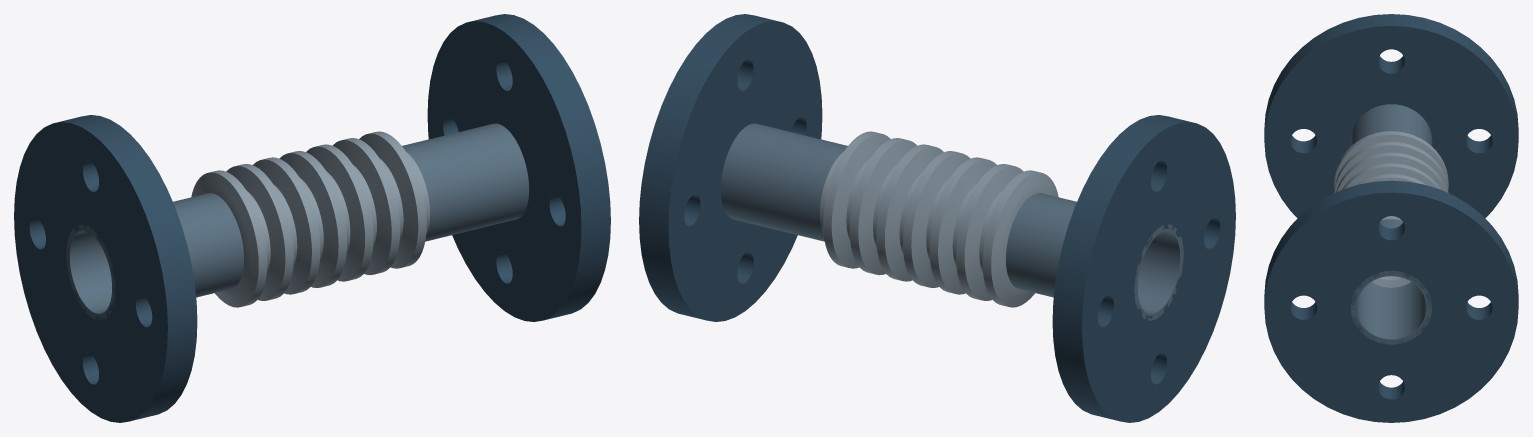
Rendered from flan-dn32-L220-D42_4-f.glb.
3 renders of one model, left to right at view 1: azimuth 30°, elevation 25°; view 2: azimuth 150°, elevation 25°; view 3: azimuth 270°, elevation 25°, orthographic. The views are drawn at different scales.
Visible parts, largest first — view 1: homut_flanec_1, homut_flanec_2, prokladka_silfon_1, patrubok_2, patrubok_1; view 2: homut_flanec_1, homut_flanec_2, prokladka_silfon_1, patrubok_2, patrubok_1; view 3: homut_flanec_2, homut_flanec_1, prokladka_silfon_1, patrubok_2, patrubok_1.
Boxes of the visible parts, left/top/right/bottom form: homut_flanec_1: left=14, top=115, right=197, bottom=422; homut_flanec_2: left=427, top=14, right=610, bottom=321; prokladka_silfon_1: left=191, top=131, right=430, bottom=307; patrubok_2: left=402, top=123, right=529, bottom=241; patrubok_1: left=66, top=193, right=243, bottom=320; homut_flanec_1: left=1052, top=115, right=1235, bottom=422; homut_flanec_2: left=639, top=14, right=822, bottom=321; prokladka_silfon_1: left=819, top=131, right=1058, bottom=307; patrubok_2: left=720, top=123, right=847, bottom=241; patrubok_1: left=1006, top=193, right=1183, bottom=320; homut_flanec_2: left=1264, top=180, right=1518, bottom=422; homut_flanec_1: left=1264, top=14, right=1518, bottom=218; prokladka_silfon_1: left=1334, top=131, right=1448, bottom=287; patrubok_2: left=1350, top=219, right=1432, bottom=344; patrubok_1: left=1350, top=104, right=1432, bottom=146.
Bounding box in the file's own units: 220 × 132 × 132.
